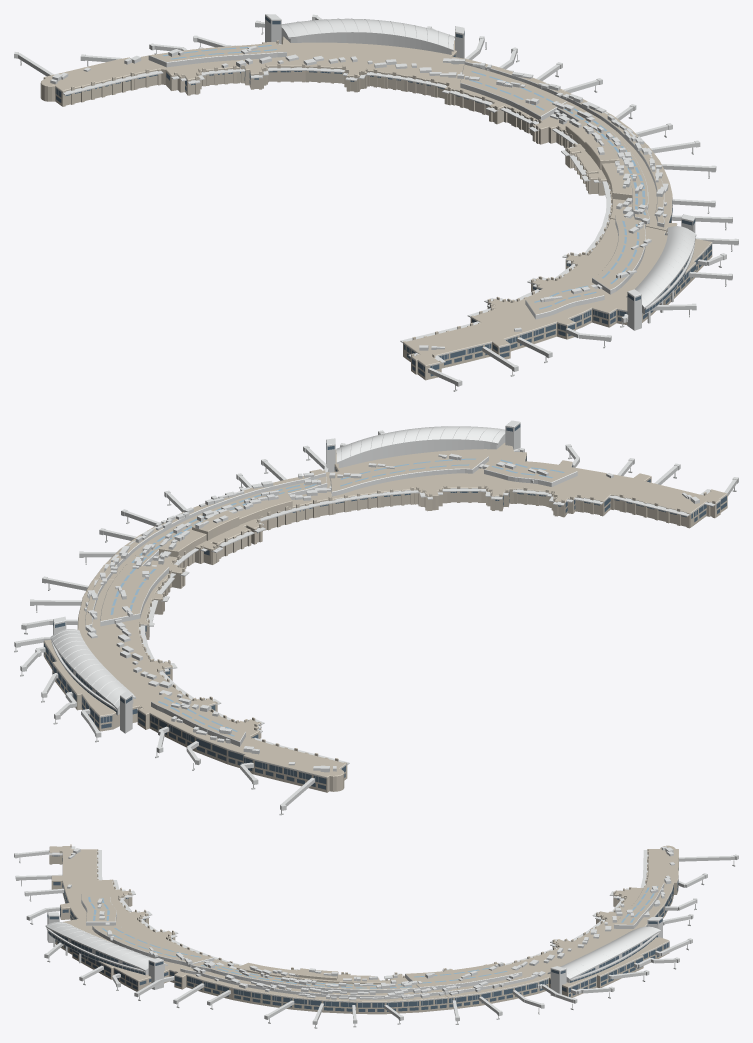
Rendered from dal-dfw-terminal-a.detail.glb.
3 views of the same model, one above another, from view 1: azimuth 30°, elevation 25°; view 2: azimuth 150°, elevation 25°; view 3: azimuth 270°, elevation 25° (orthographic). The views are drawn at different scales.
Visible parts, largest first — view 1: DFW Airport Terminal A; view 2: DFW Airport Terminal A; view 3: DFW Airport Terminal A.
Boxes of the visible parts, x1,y1,x2,y2 form: DFW Airport Terminal A: (14,14,738,391); DFW Airport Terminal A: (14,420,738,815); DFW Airport Terminal A: (14,844,738,1028).
Size of the model in its own units: 369 by 27.6 by 654.
